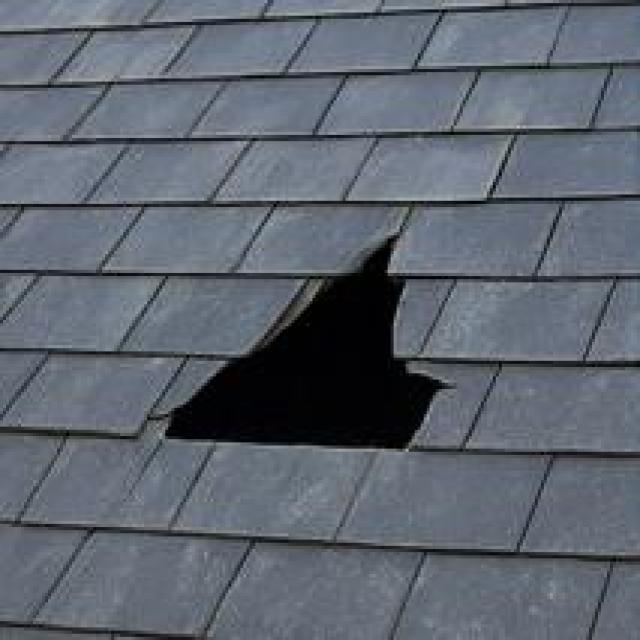trou: (154, 224, 463, 447)
